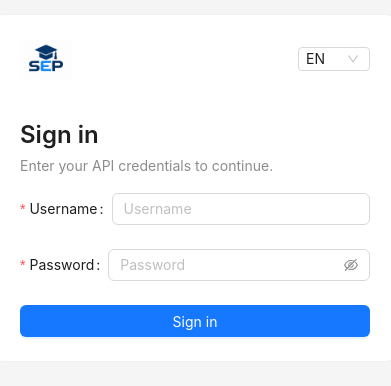
Scenario: LoginPage › shows an invalid-credentials error when login fails with 401
Type "dev" into the field labelled "Username". click: (241, 209)
box: [112,193,370,225]
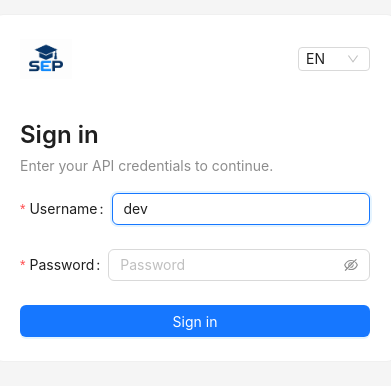
Type "wrong" into the password field labelled "Password". click: (230, 265)
box: [120,254,340,276]
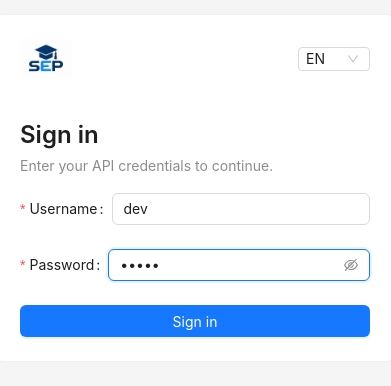
Click the button "Sign in". click: (195, 321)
box: [20,305,370,337]
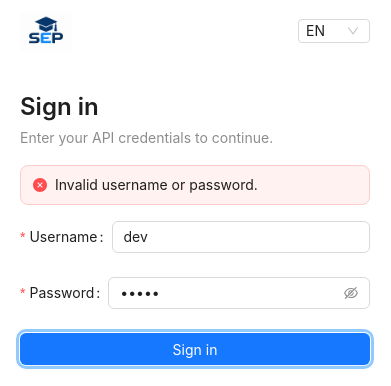
Now the text "Invalid username or password." is shown, box [55,176,258,193]
